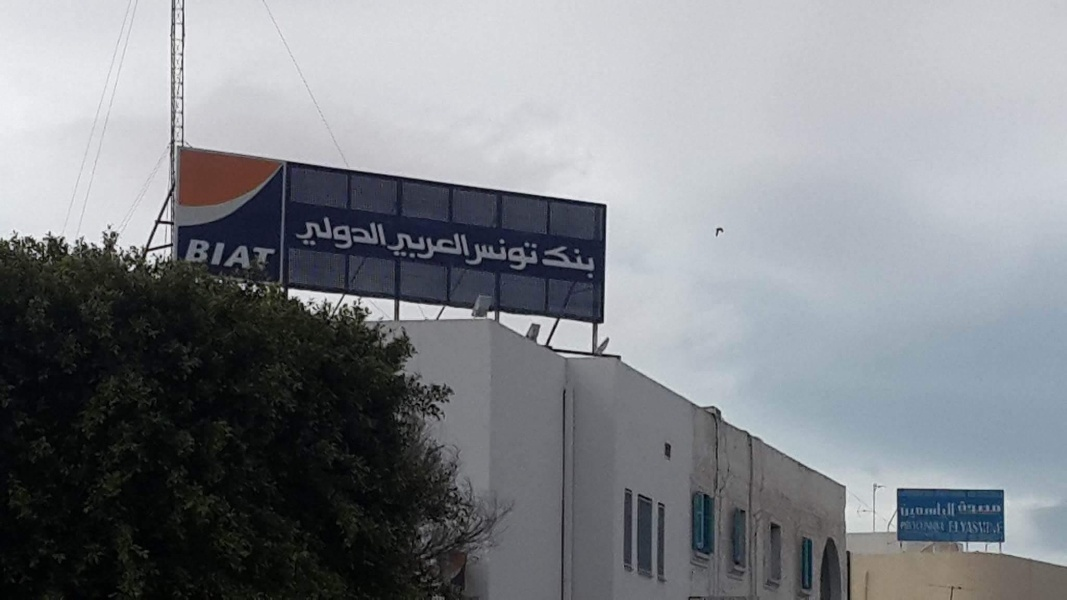text: (305, 212, 320, 254), (321, 212, 336, 254), (337, 212, 352, 254), (353, 212, 368, 254), (369, 212, 384, 254), (545, 244, 560, 280), (561, 244, 576, 280), (577, 244, 592, 280), (481, 237, 496, 271), (497, 237, 512, 271), (513, 237, 528, 271), (193, 238, 208, 272), (209, 238, 224, 272), (225, 238, 240, 272), (241, 238, 256, 272), (257, 238, 272, 272), (385, 228, 400, 261), (401, 228, 416, 261), (417, 228, 432, 261), (433, 228, 448, 261), (449, 228, 464, 261), (293, 212, 304, 254), (468, 237, 480, 271), (529, 237, 538, 271), (913, 501, 928, 519), (929, 501, 944, 519), (913, 518, 928, 536), (929, 518, 944, 536), (961, 519, 976, 537), (977, 519, 992, 537), (961, 500, 976, 515), (977, 500, 992, 515), (900, 518, 912, 536), (948, 519, 960, 537), (993, 519, 1005, 537), (465, 228, 471, 261), (901, 501, 912, 519), (945, 501, 955, 519), (593, 244, 597, 280), (993, 500, 1002, 515), (385, 212, 388, 254), (273, 238, 276, 272), (190, 238, 192, 272), (956, 500, 960, 515), (945, 518, 947, 536), (383, 228, 384, 261)
